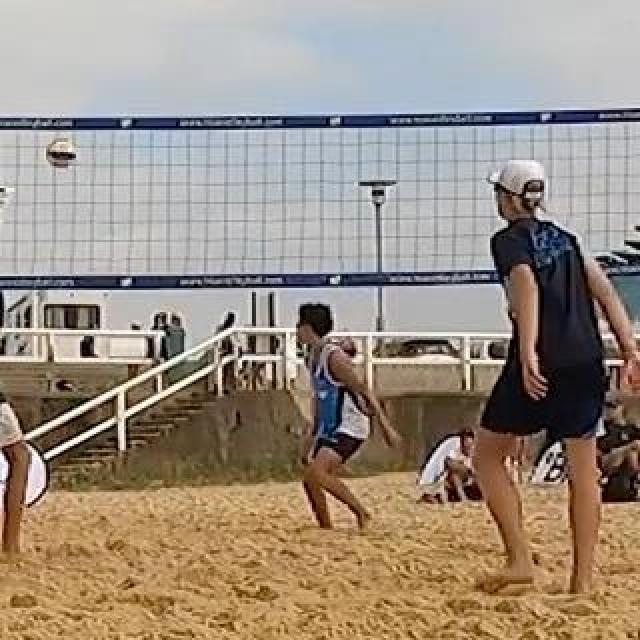volleyball: (46, 138, 74, 168)
